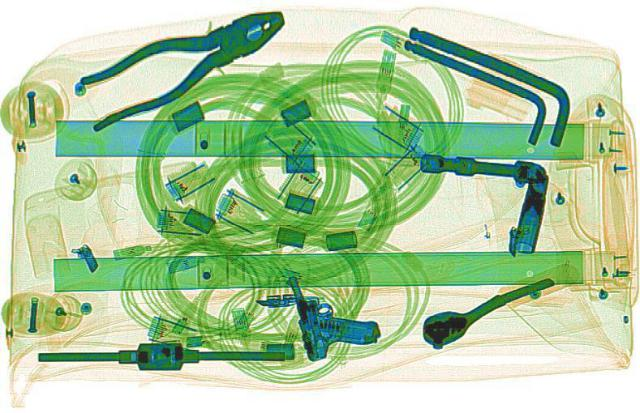Gun: (282, 270, 383, 361)
Pliers: (41, 0, 300, 133)
